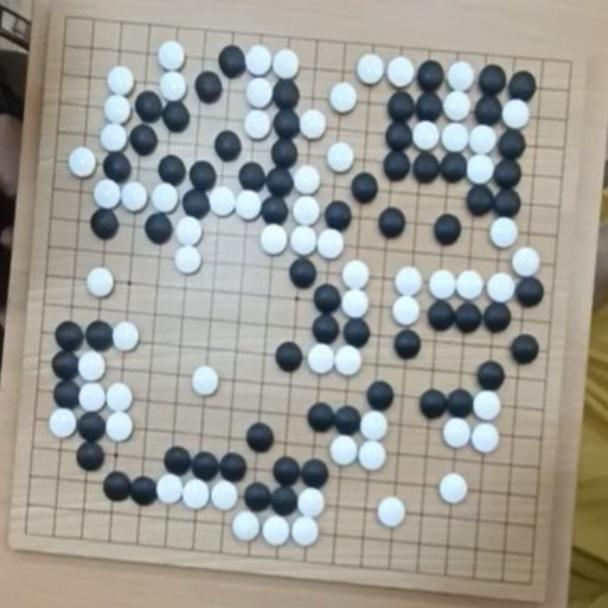corners: (543, 46, 589, 89), (9, 506, 50, 553), (507, 554, 546, 600), (49, 3, 92, 40)
